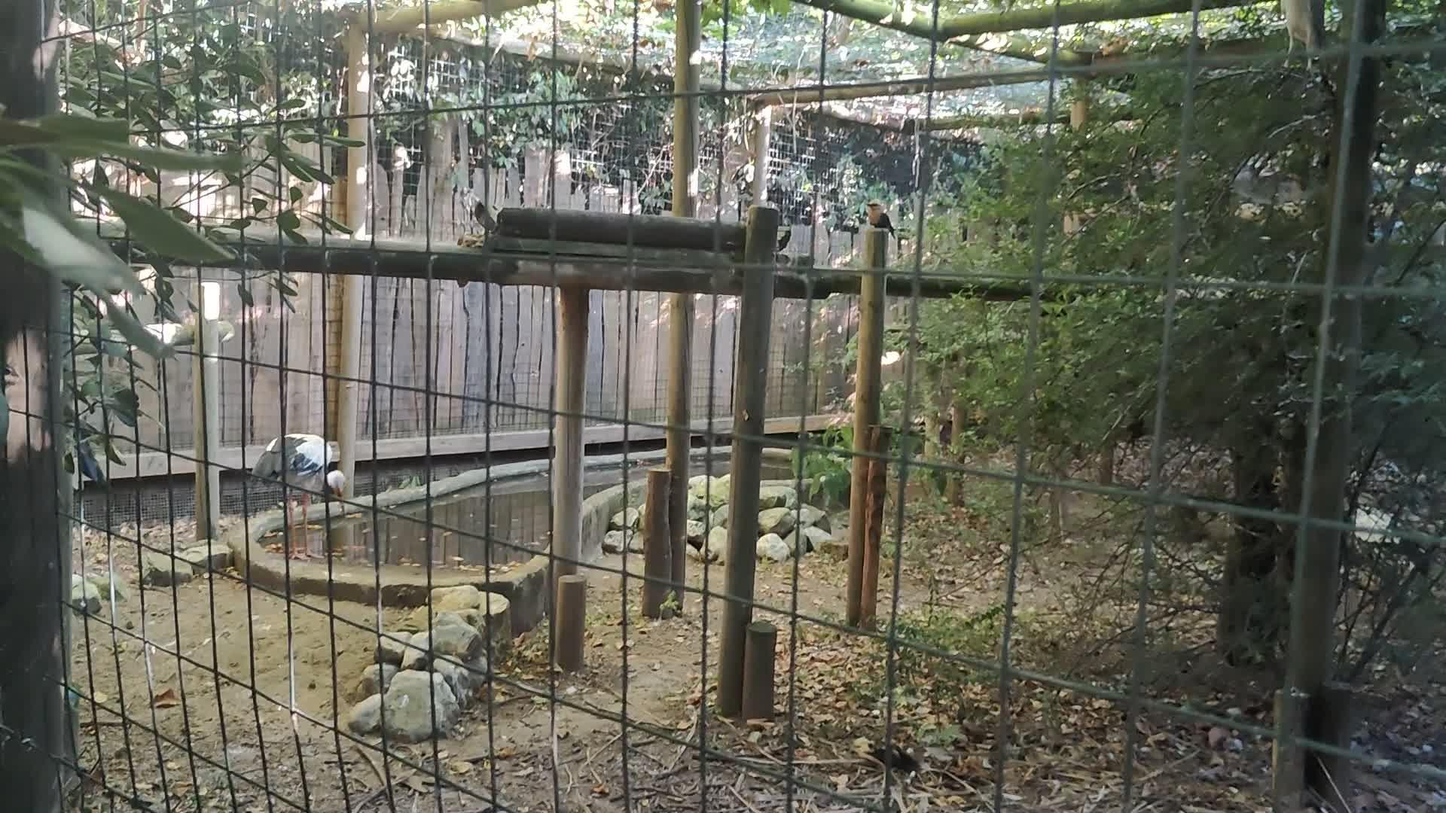apple: (251, 433, 347, 561), (866, 199, 896, 240)
